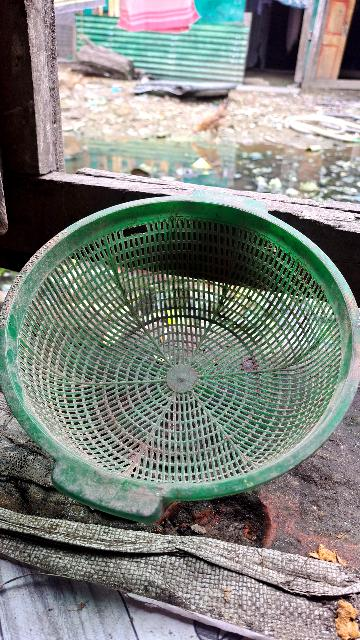hardplastic: (7, 193, 357, 518)
